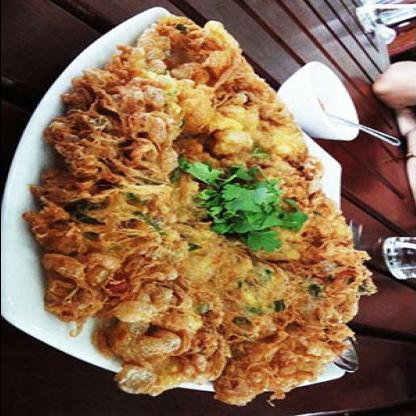Omelette: (10, 20, 376, 408)
